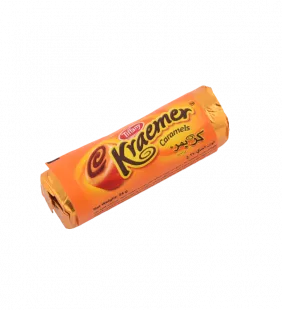Promotion: (29, 76, 236, 236)
